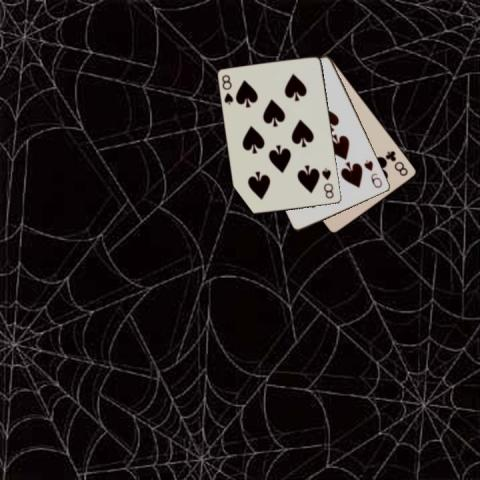8c: (384, 148, 410, 178)
8s: (319, 165, 336, 200), (219, 72, 235, 106)
9s: (361, 157, 384, 189)
